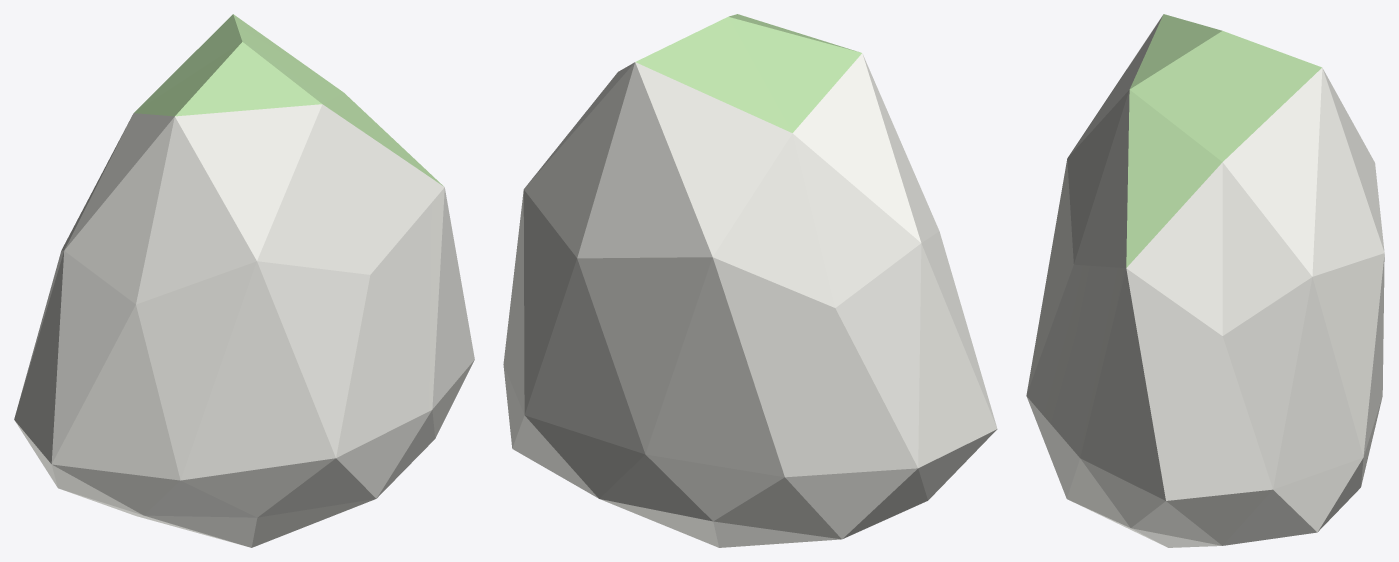
File: standing_stone_squat.gltf
3 views of the same model, side by side, from view 1: azimuth 30°, elevation 25°; view 2: azimuth 150°, elevation 25°; view 3: azimuth 270°, elevation 25° (orthographic). The views are drawn at different scales.
Visible parts, largest first — view 1: standing_stone_squat_Stone_Rock, standing_stone_squat_Stone_Moss; view 2: standing_stone_squat_Stone_Rock, standing_stone_squat_Stone_Moss; view 3: standing_stone_squat_Stone_Rock, standing_stone_squat_Stone_Moss.
Part boxes in pixels (x1,y1,x2,y2): standing_stone_squat_Stone_Rock: (14,104,474,547); standing_stone_squat_Stone_Moss: (134,14,443,186); standing_stone_squat_Stone_Rock: (503,53,997,547); standing_stone_squat_Stone_Moss: (635,14,861,132); standing_stone_squat_Stone_Rock: (1026,15,1384,547); standing_stone_squat_Stone_Moss: (1126,14,1321,267).
Bounding box in the file's own units: 1.2 × 1.3 × 0.837.
